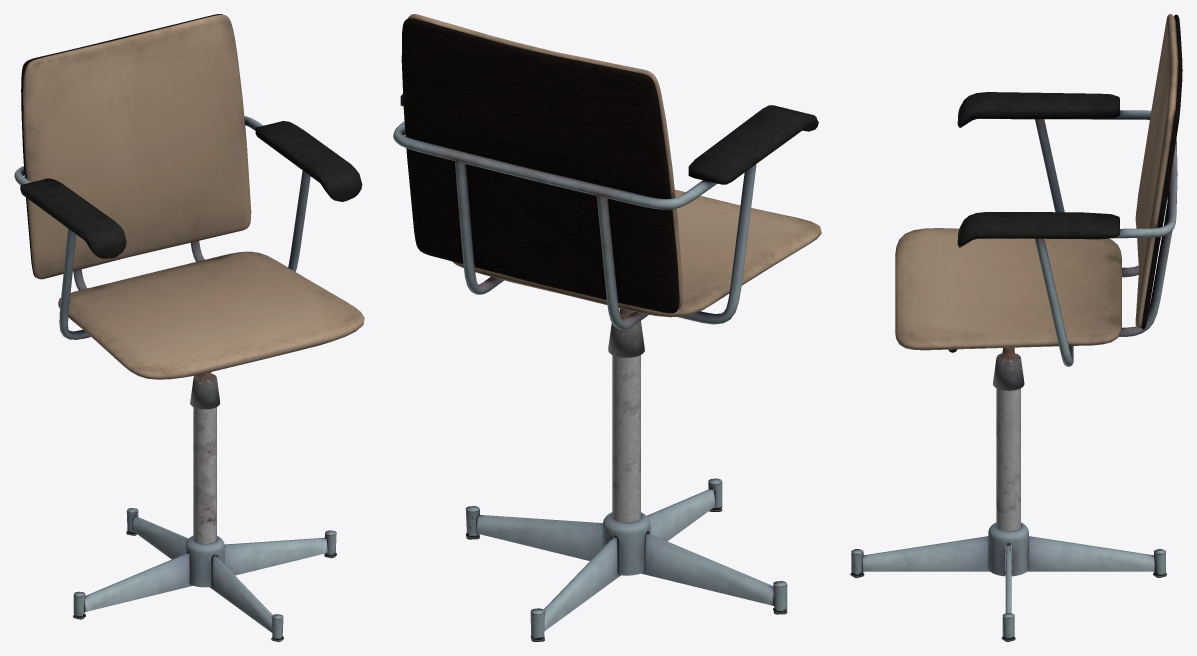
The model's file is office-chair-70s.glb.
3 renders of one model, left to right at view 1: azimuth 30°, elevation 25°; view 2: azimuth 150°, elevation 25°; view 3: azimuth 270°, elevation 25°, orthographic. The views are drawn at different scales.
Visible parts, largest first — view 1: seatBack, seat, chairLegs, armRests, shaft1, seatSupport, legCollar, chairFoots, shaftColar, seatBack.002; view 2: seatBack.002, chairLegs, seat, seatSupport, armRests, shaft1, seatBack, legCollar, chairFoots, shaftColar; view 3: seat, armRests, chairLegs, seatBack, seatSupport, shaft1, legCollar, seatBack.002, chairFoots, shaftColar.
Part boxes in pixels (left/top/right/bottom): seatBack: left=23, top=14, right=251, bottom=279; seat: left=58, top=251, right=364, bottom=379; chairLegs: left=84, top=516, right=327, bottom=632; armRests: left=20, top=121, right=362, bottom=258; shaft1: left=193, top=407, right=216, bottom=555; seatSupport: left=14, top=116, right=310, bottom=339; legCollar: left=185, top=535, right=224, bottom=587; chairFoots: left=73, top=508, right=336, bottom=641; shaftColar: left=190, top=373, right=220, bottom=409; seatBack.002: left=21, top=14, right=222, bottom=277; seatBack.002: left=401, top=18, right=679, bottom=313; chairLegs: left=476, top=489, right=773, bottom=631; seat: left=452, top=189, right=821, bottom=317; seatSupport: left=393, top=121, right=756, bottom=329; armRests: left=400, top=94, right=818, bottom=184; shaft1: left=612, top=355, right=640, bottom=537; seatBack: left=408, top=14, right=682, bottom=309; legCollar: left=602, top=512, right=650, bottom=575; chairFoots: left=465, top=478, right=787, bottom=641; shaftColar: left=608, top=321, right=644, bottom=357; seat: left=895, top=228, right=1121, bottom=350; armRests: left=957, top=92, right=1119, bottom=247; chairLegs: left=862, top=536, right=1155, bottom=613; seatBack: left=1135, top=14, right=1178, bottom=328; seatSupport: left=948, top=110, right=1177, bottom=366; shaft1: left=996, top=388, right=1020, bottom=575; legCollar: left=988, top=522, right=1028, bottom=576; seatBack.002: left=1141, top=14, right=1182, bottom=329; chairFoots: left=850, top=549, right=1166, bottom=641; shaftColar: left=993, top=353, right=1024, bottom=390.
Size of the model in its own units: 0.5781 by 1 by 0.5868.
Materials: 14 (12 with a texture image).
